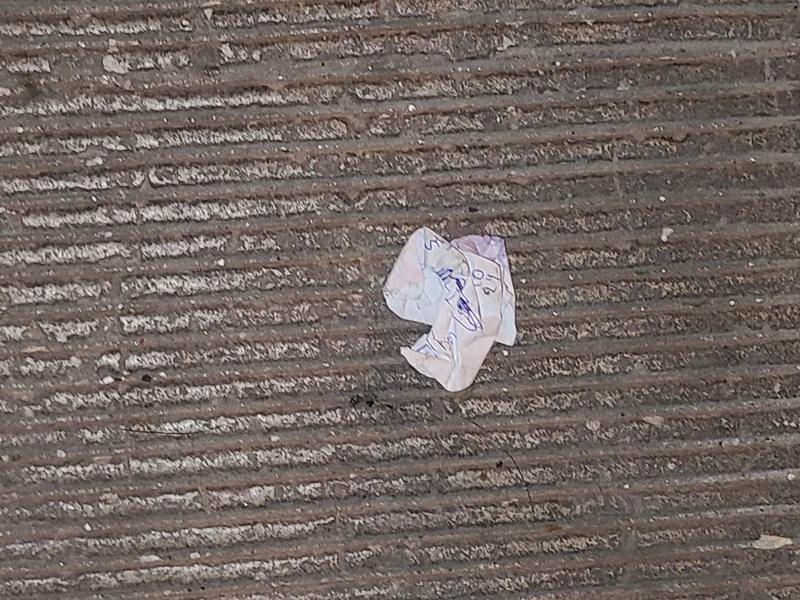papel: (382, 228, 518, 393)
